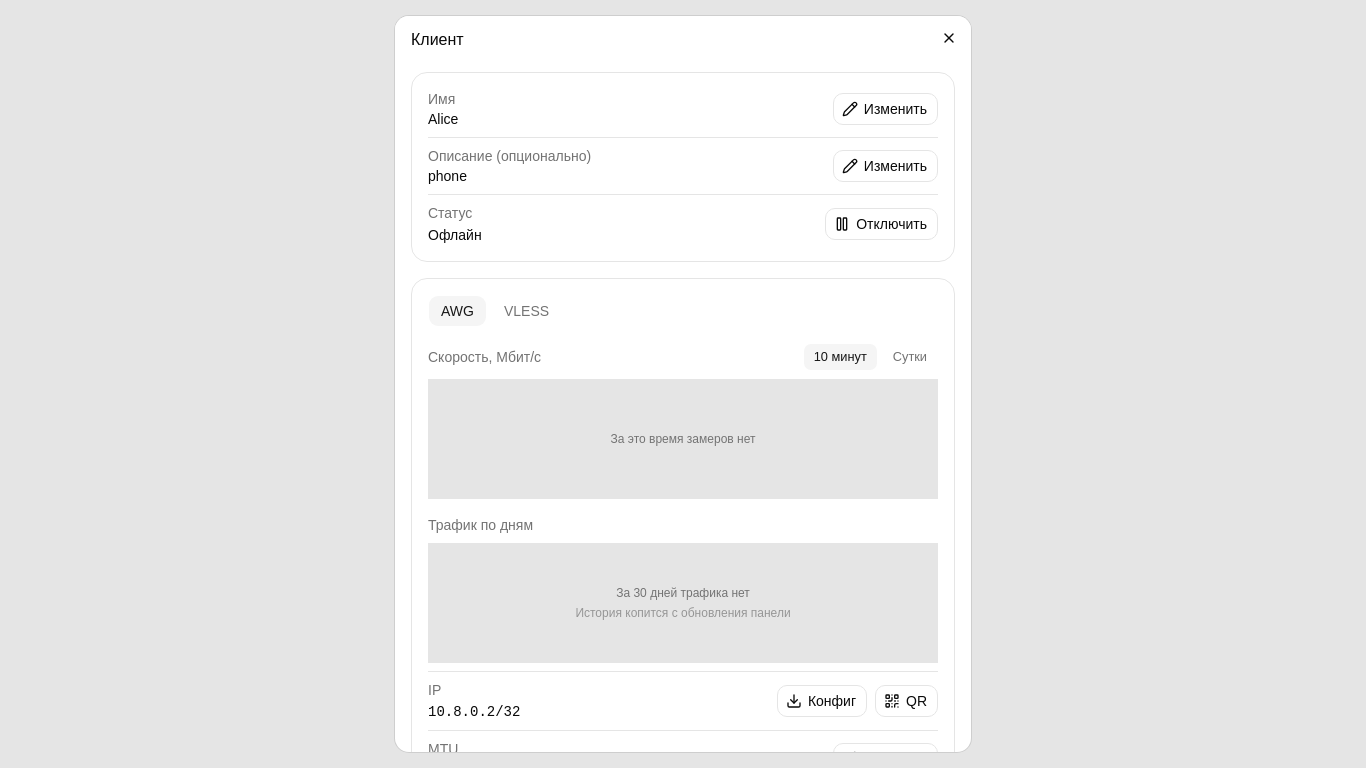
it: ClientInfoDialog: блоки › две карточки: общее и вкладки вместе с их содержимым
Click the tab "VLESS": x=526, y=311 x1=491 y1=295 x2=562 y2=327
(page scrolled)
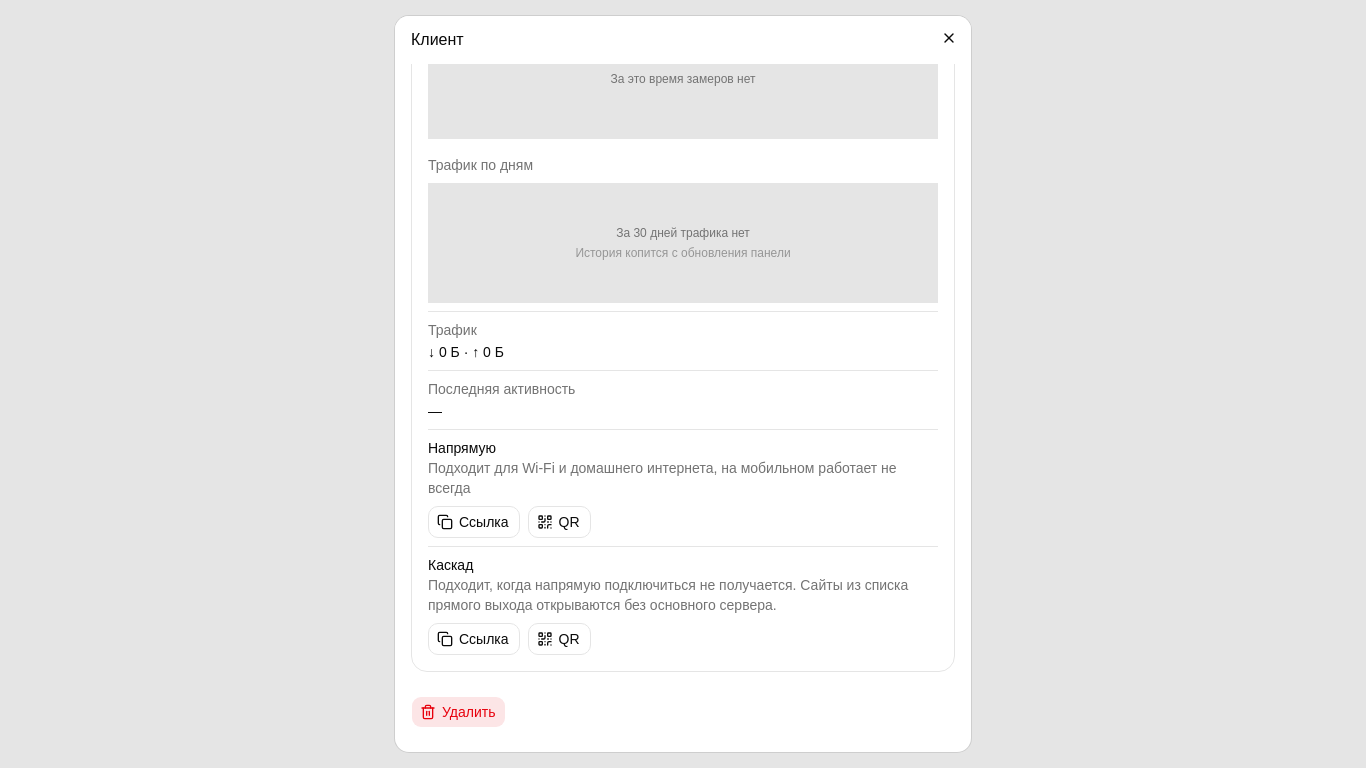
Expected: the text "Напрямую" is shown, x1=428 y1=440 x2=496 y2=456
